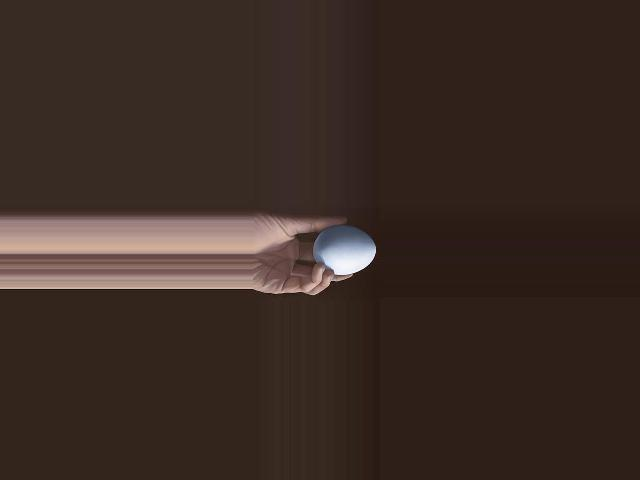egg: (313, 226, 376, 276)
